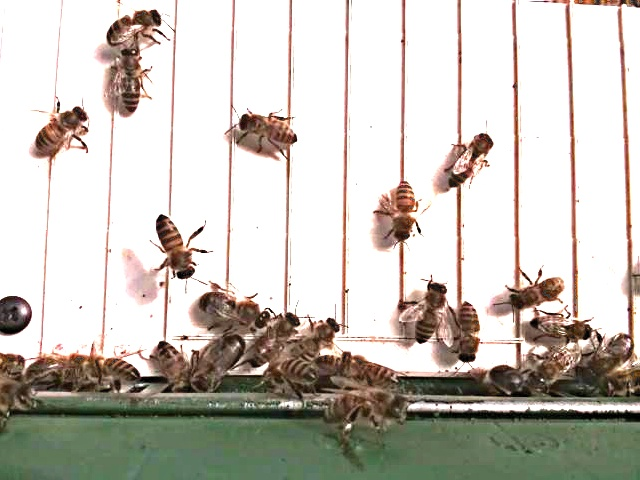Drone: (191, 327, 250, 392), (195, 286, 274, 331)
Worker: (447, 126, 497, 189), (154, 211, 199, 281), (250, 309, 303, 368), (34, 101, 92, 153), (106, 4, 166, 48), (414, 276, 452, 345), (238, 110, 301, 146), (508, 271, 569, 308), (301, 312, 342, 364), (389, 178, 420, 246), (528, 312, 595, 342), (117, 44, 145, 115), (454, 300, 483, 363)
